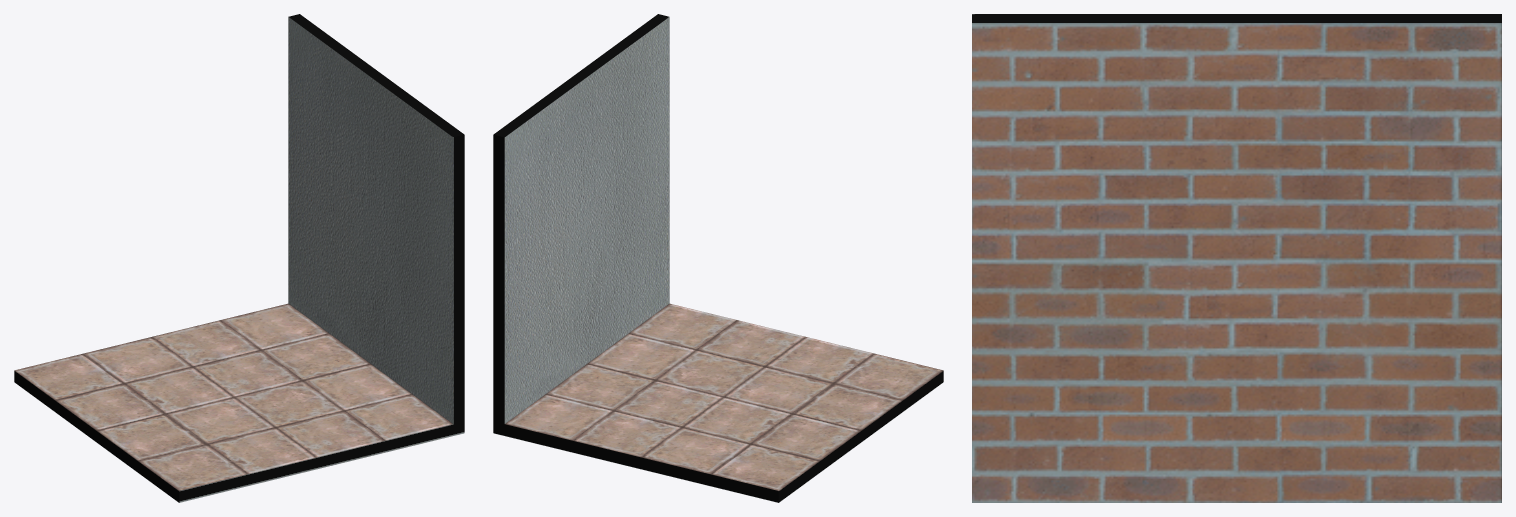
File: groundfloorwall.fbx
3 views of the same model, side by side, from view 1: azimuth 30°, elevation 25°; view 2: azimuth 150°, elevation 25°; view 3: azimuth 270°, elevation 25° (orthographic). The views are drawn at different scales.
Visible parts, largest first — view 1: groundfloorwall; view 2: groundfloorwall; view 3: groundfloorwall.
Boxes of the visible parts, x1=… form: groundfloorwall: x1=14, y1=14, x2=464, y2=502; groundfloorwall: x1=493, y1=14, x2=943, y2=502; groundfloorwall: x1=972, y1=14, x2=1501, y2=502.
Size of the model in its own units: 2.5 by 2.5 by 2.5.
Materials: 1 (1 with a texture image).
